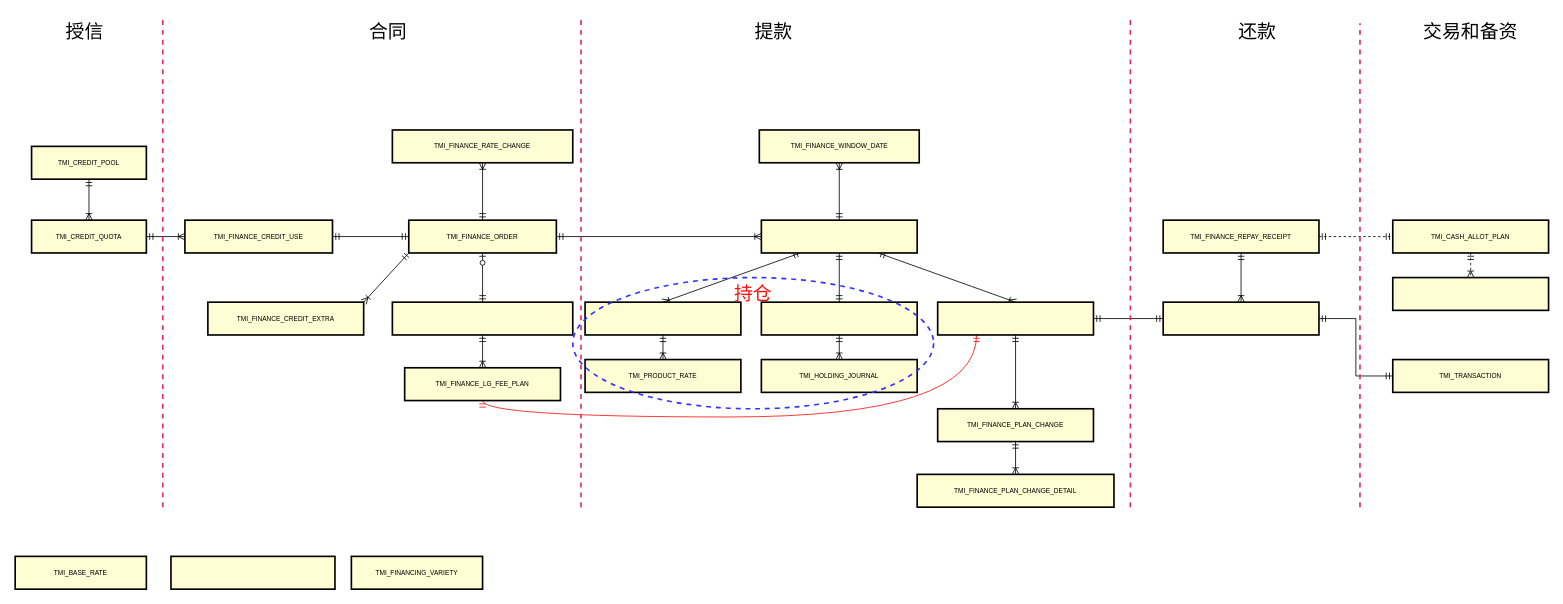
Some shapes in this 1563 by 604 pixel diagram are drawn without their labels. Each missing label, with the centre of its shape:
"TMI_CASH_ALOT_DETAIL" belongs at point 1470,293.
"TMI_FINANCE_BANK_HOC_CALC" belongs at point 252,572.
"TMI_FINANCE_GUARANTEE_LETTER" belongs at point 482,318.
"TMI_FINANCE_LOAN_RECEIPT" belongs at point 839,236.
"TMI_FINANCE_REPAY_DETAIL" belongs at point 1240,318.
"TMI_FINANCE_REPAY_PLAN" belongs at point 1015,318.
"TMI_INSTANCE_HOLD" belongs at point 839,318.
"TMI_PRODUCT" belongs at point 662,318.
